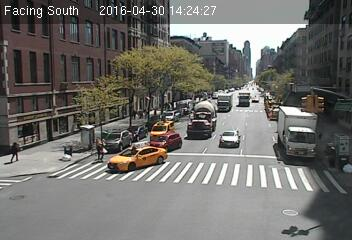neg: (57, 49, 78, 78), (198, 115, 216, 139), (22, 120, 39, 142), (50, 79, 65, 99), (55, 141, 69, 159), (161, 111, 175, 129), (244, 92, 257, 110), (6, 44, 19, 61), (199, 85, 212, 102)
pos: (90, 137, 109, 162), (6, 141, 22, 162), (141, 108, 150, 120), (130, 109, 139, 120)
